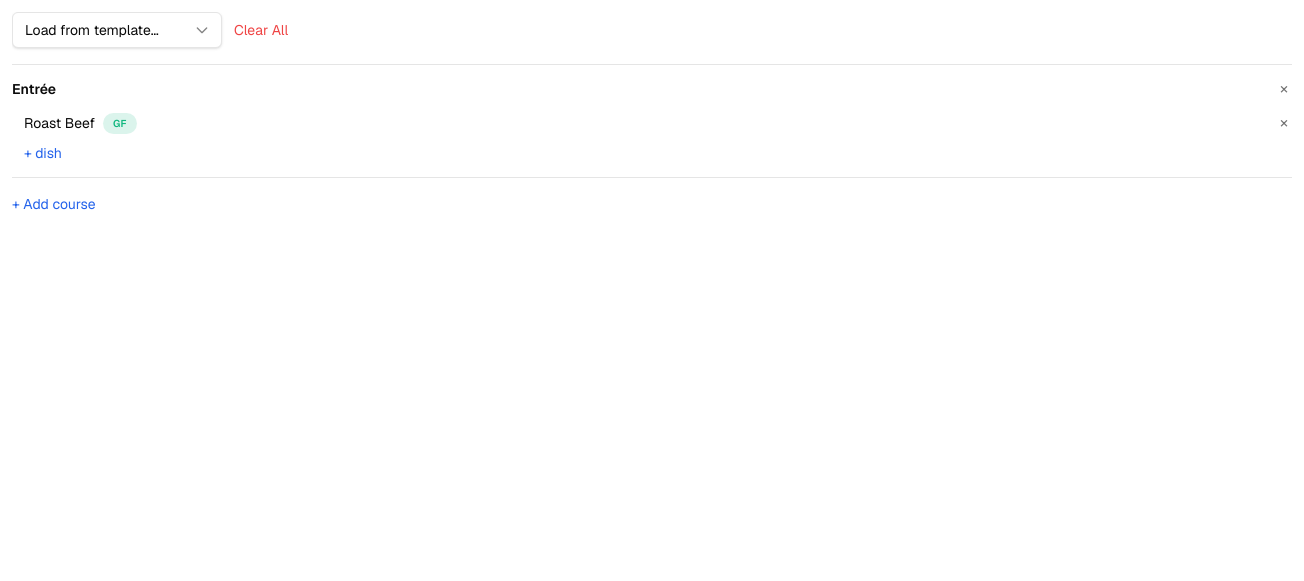
MenuBuilder — the course-scoped dish picker (AC8b) › opens inside the course it adds to, and adds straight into it
Click the button "+ dish": point(37, 153) [12,143,62,163]
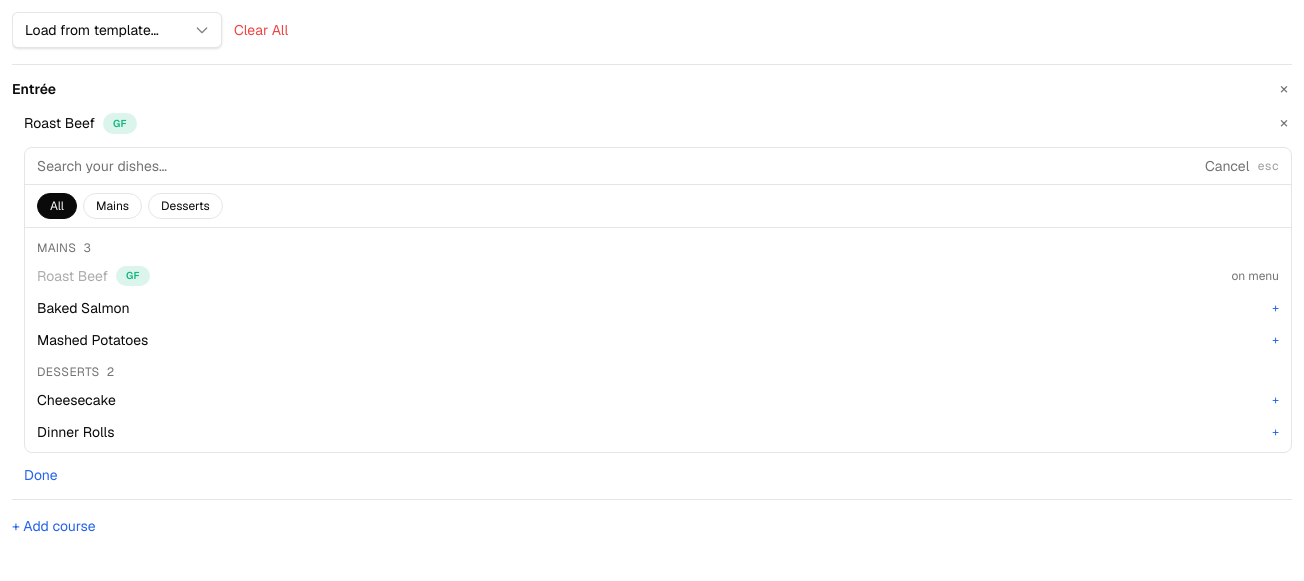
Click the button with aria-label "Cheesecake — add to Entrée": point(76, 400) [25,384,1291,416]
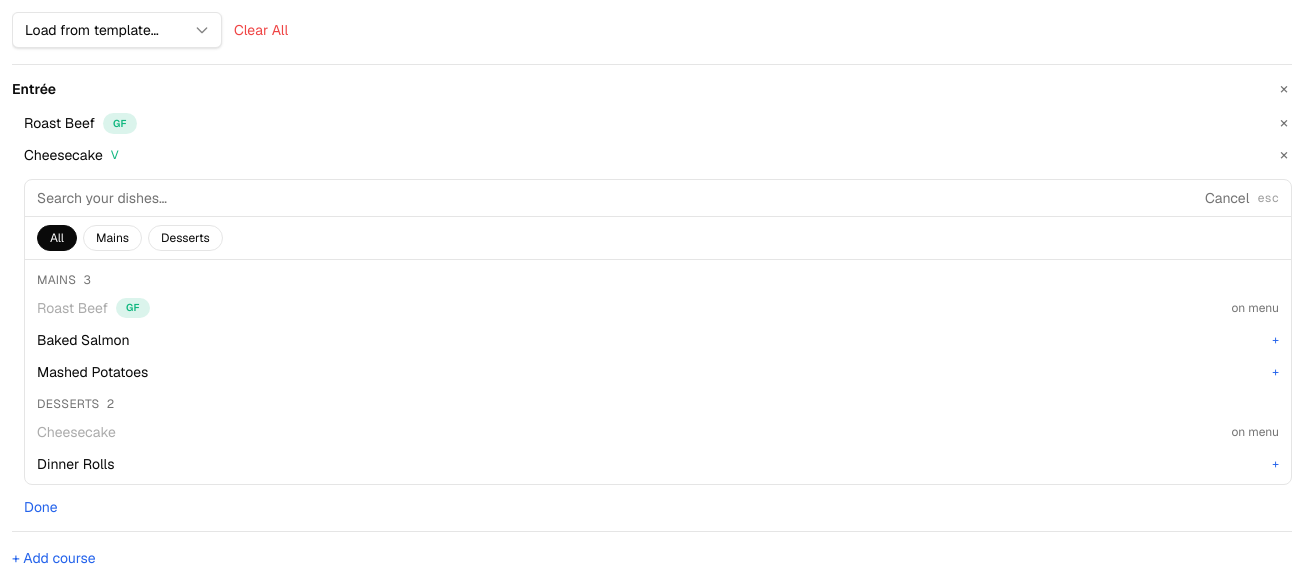
Expected: the button named "Remove Cheesecake" is shown, [1276,143,1292,167]
